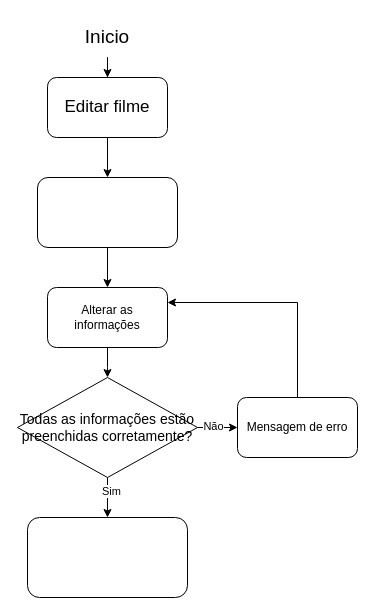
The diagram is 375 pixels wide and 615 high, and some of its shapes have lost their labels. Each missing label, with the centre of its shape:
"Salvar alterações e mostrar mensagem de filme atualizado com sucesso" goes at point (107, 557).
"Selecionar filme que deseja editar" goes at point (107, 212).
